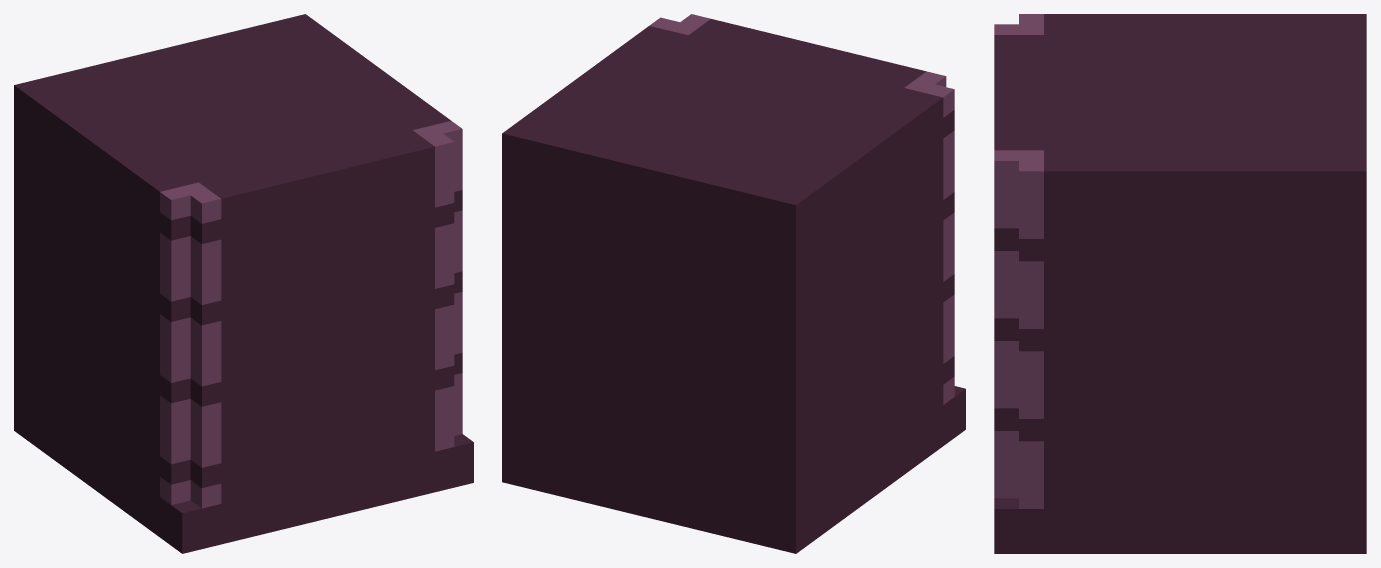
File: dungeon_c_b_outer_wall_segment_b_flipped.obj
The picture shows the model from 3 angles, left to right: view 1: azimuth 30°, elevation 25°; view 2: azimuth 150°, elevation 25°; view 3: azimuth 270°, elevation 25°; orthographic projection. The views are drawn at different scales.
Size of the model in its own units: 1.5 by 1.7 by 1.5.
1 material, 1 textured.
